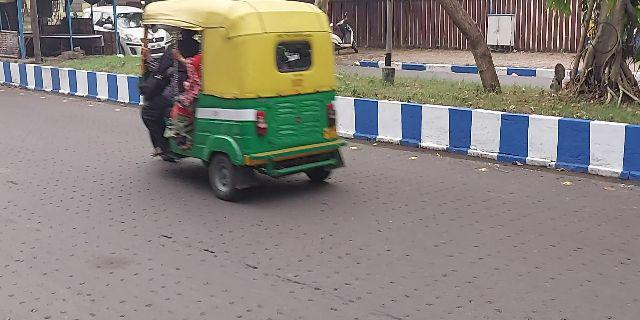Autorickshaw: (134, 5, 349, 203)
